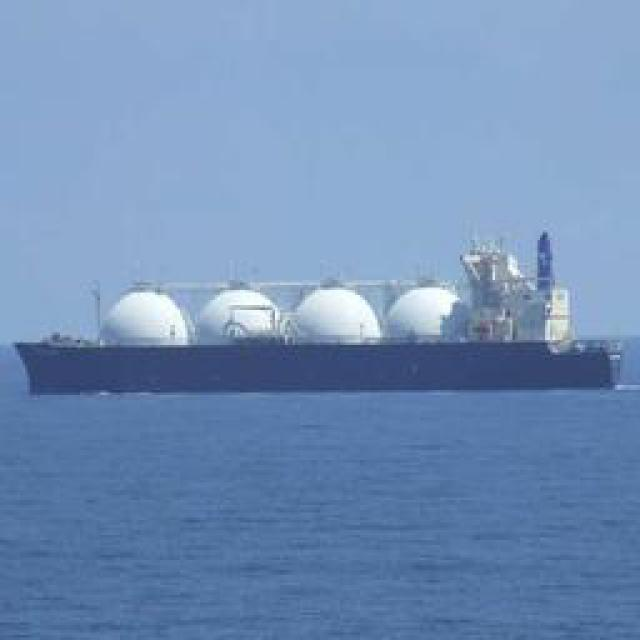Ship: (13, 213, 629, 411)
